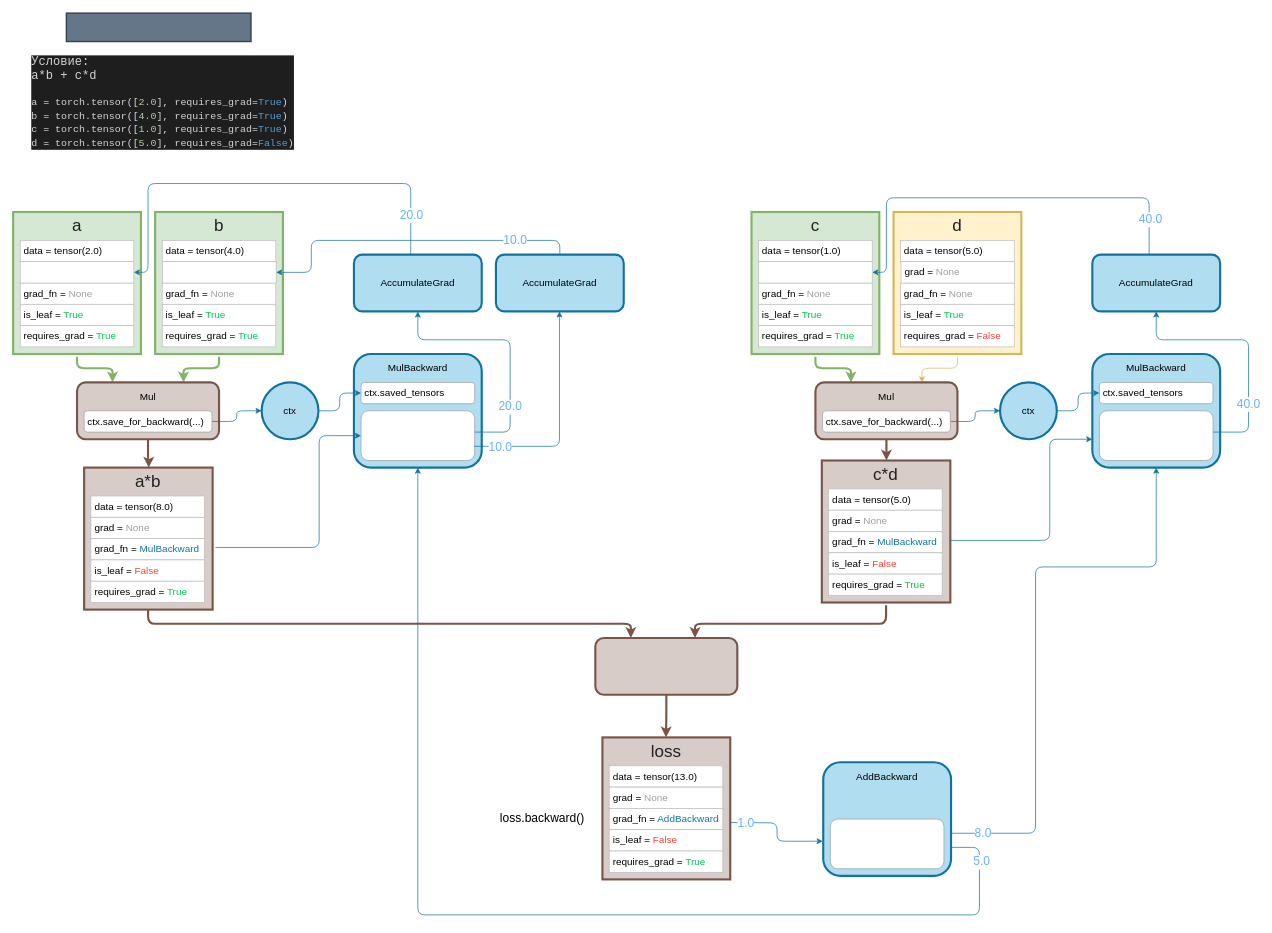
The diagram is 1272 pixels wide and 933 high, and some of its shapes have lost their labels. The shapes that lost their labels are listed below. From the top down, each one's centre as x and y in pixels, then its label:
At [158,27]: "Домашнее задание #2".
At [77,272]: "grad = 20.0".
At [219,272]: "grad = 10.0".
At [815,272]: "grad = 40.0".
At [417,435]: "next_functions = [ (AccumulateGrad, 0), (AccumulateGrad, 0) ]".
At [1156,435]: "next_functions = [ (AccumulateGrad, 0), (None, 0) ]".
At [666,666]: "Add".
At [887,843]: "next_functions = [ (MulBackward, 0), (MulBackward, 0) ]".
